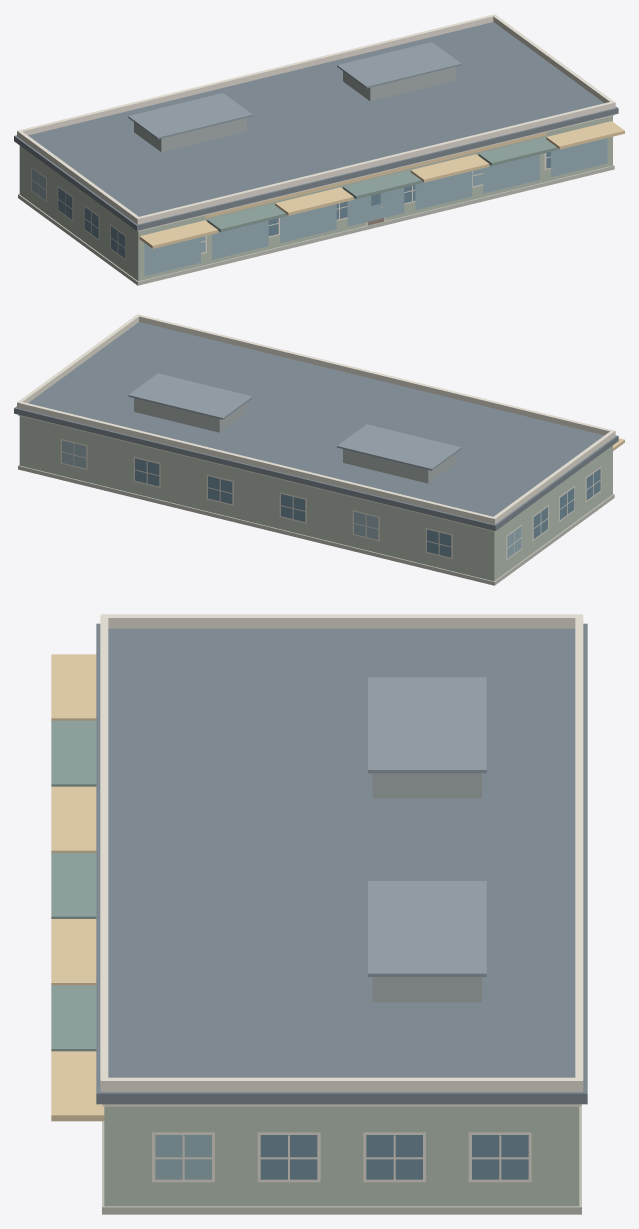
The model's file is shop-strip.glb.
3 views of the same model, one above another, from view 1: azimuth 30°, elevation 25°; view 2: azimuth 150°, elevation 25°; view 3: azimuth 270°, elevation 25° (orthographic). The views are drawn at different scales.
Visible parts, largest first — view 1: shop-strip; view 2: shop-strip; view 3: shop-strip.
Part boxes in pixels (x1=…): shop-strip: x1=14, y1=14, x2=624, y2=285; shop-strip: x1=14, y1=314, x2=624, y2=585; shop-strip: x1=51, y1=614, x2=587, y2=1214.
Bounding box in the file's own units: 30.45 × 4.72 × 14.68.
